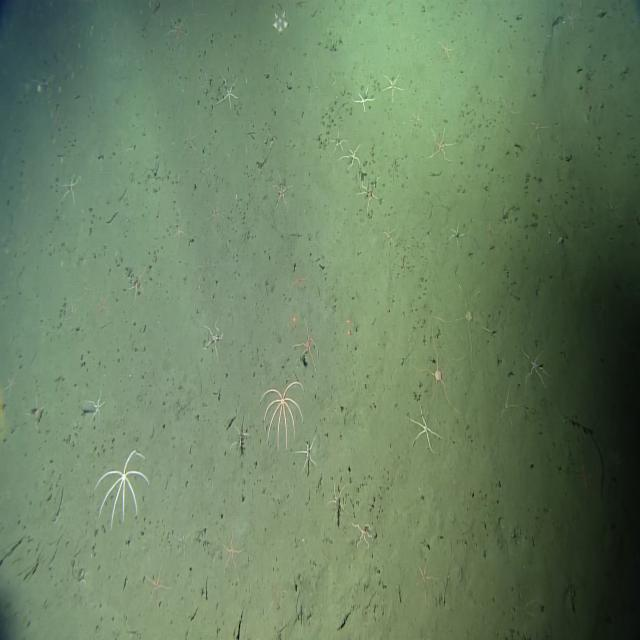Brittle Star: (412, 333, 464, 414), (448, 280, 489, 343), (406, 400, 444, 457), (517, 338, 554, 393), (292, 314, 322, 371), (424, 120, 457, 168), (410, 553, 440, 604), (493, 379, 521, 430), (214, 70, 243, 117), (522, 107, 553, 148), (54, 167, 84, 209), (599, 186, 627, 229), (348, 514, 376, 553), (379, 65, 407, 103), (162, 12, 190, 48), (444, 214, 469, 252), (435, 32, 459, 68), (560, 5, 584, 36)
Not Brittle Star: (91, 445, 152, 532), (258, 374, 307, 454)
